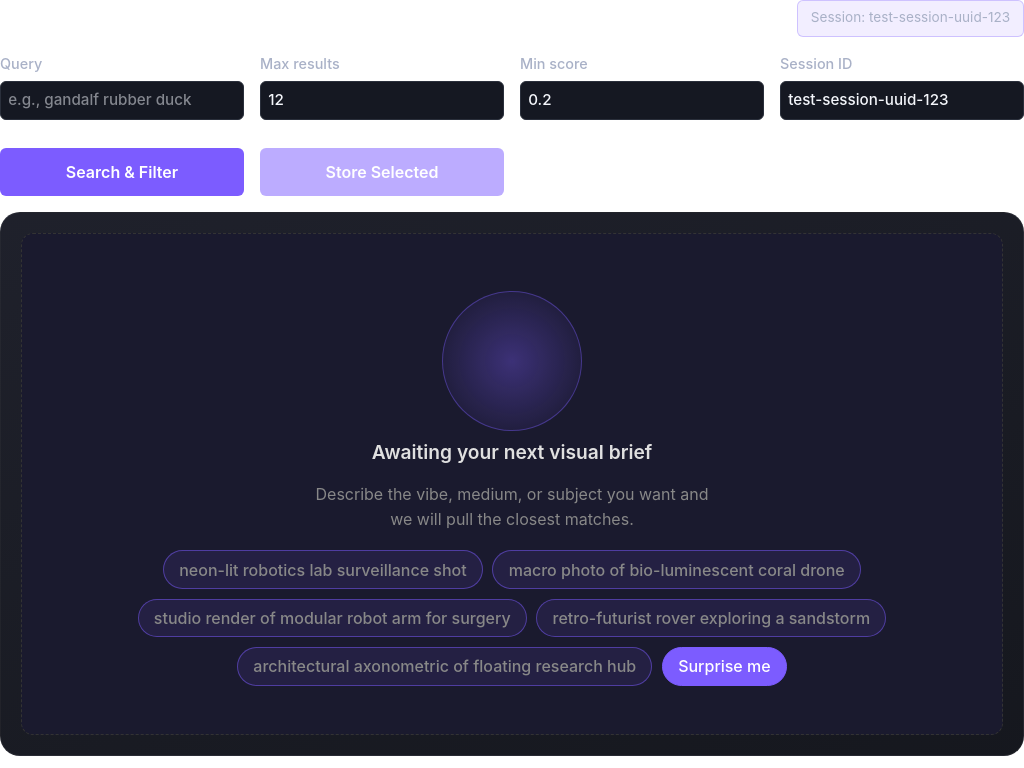
Test case: Gallery Tab › Search Workflow › shows error when searching with empty query
The width and height of the screenshot is (1024, 768).
Click the button "Search & Filter": (122, 172) x1=0 y1=148 x2=244 y2=196
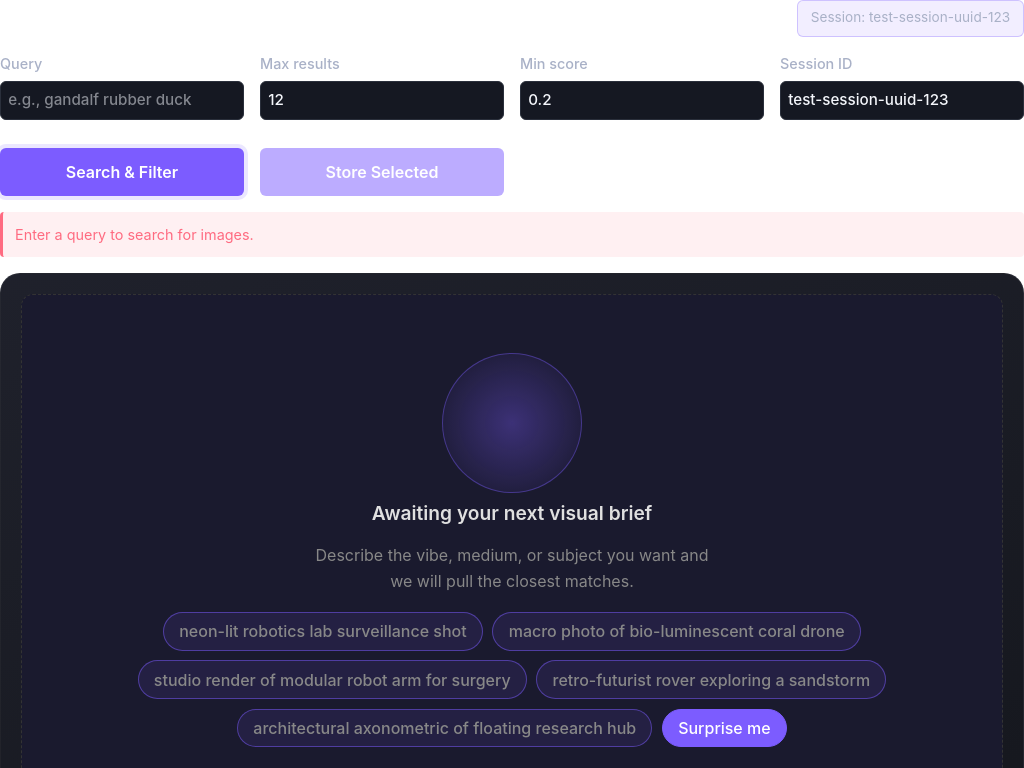
expect the text "Enter a query to search for images." is shown: met, box x1=0 y1=212 x2=1023 y2=257
